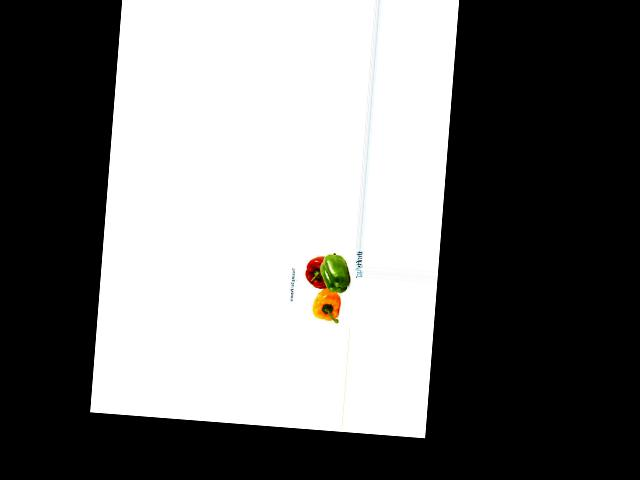bell_pepper: (318, 251, 355, 296)
